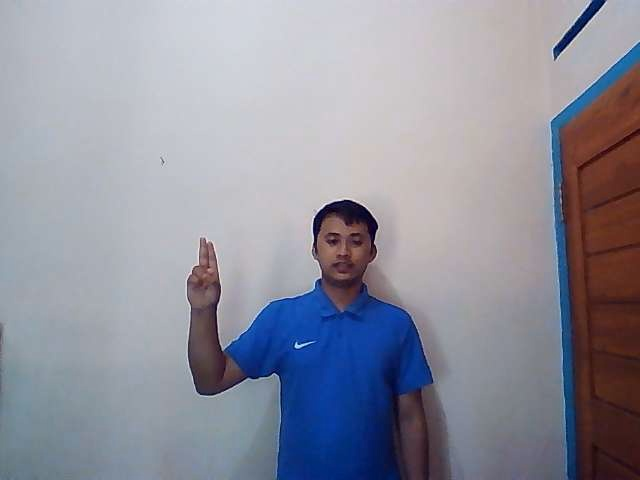U: (185, 236, 222, 310)
